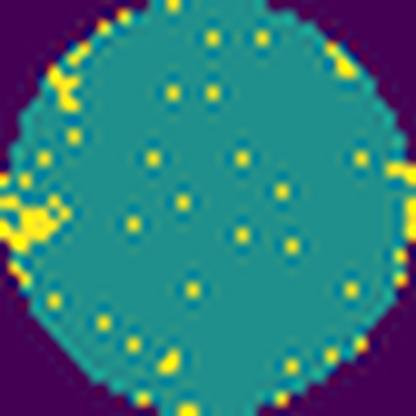Loc: (0, 193, 74, 254)
